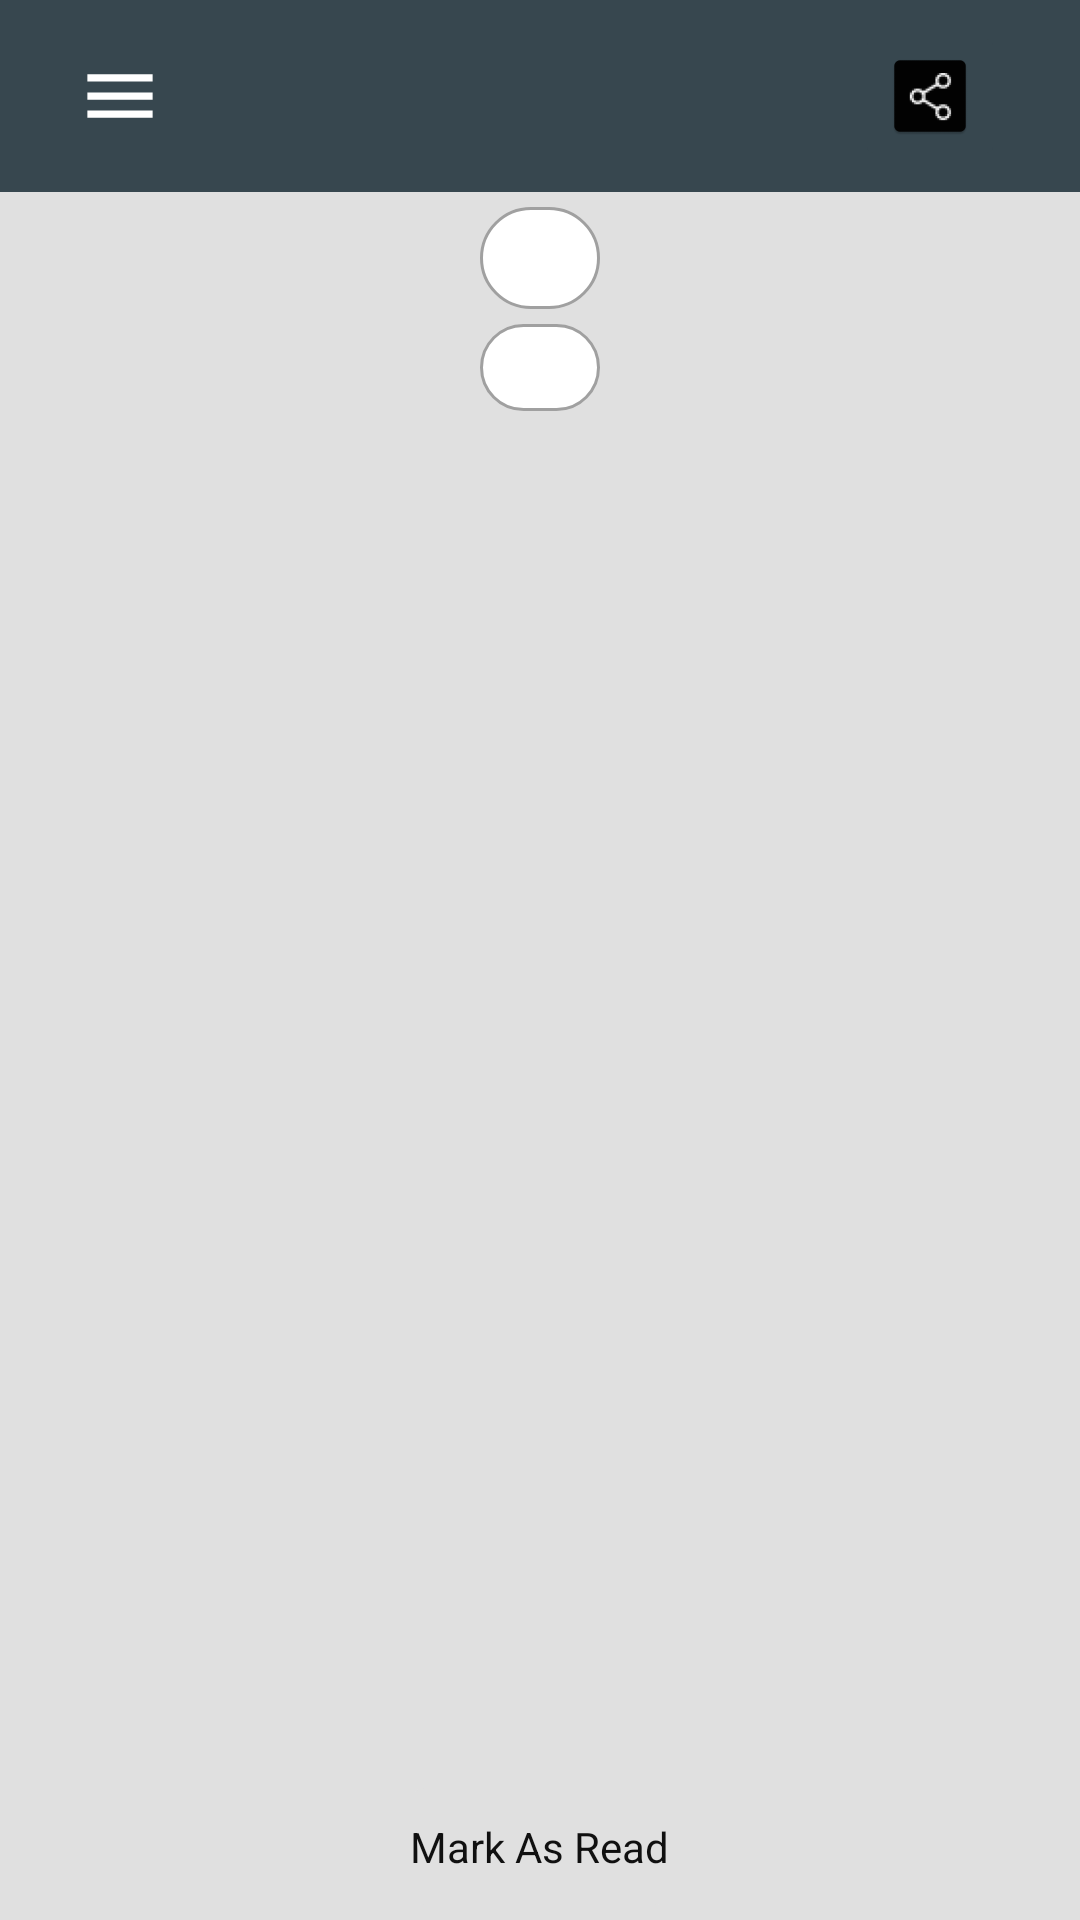

Icons on this 1080*1920 Android screen, each with the point to tap as (x,y):
menu image: (120,96)
share: (930,96)
